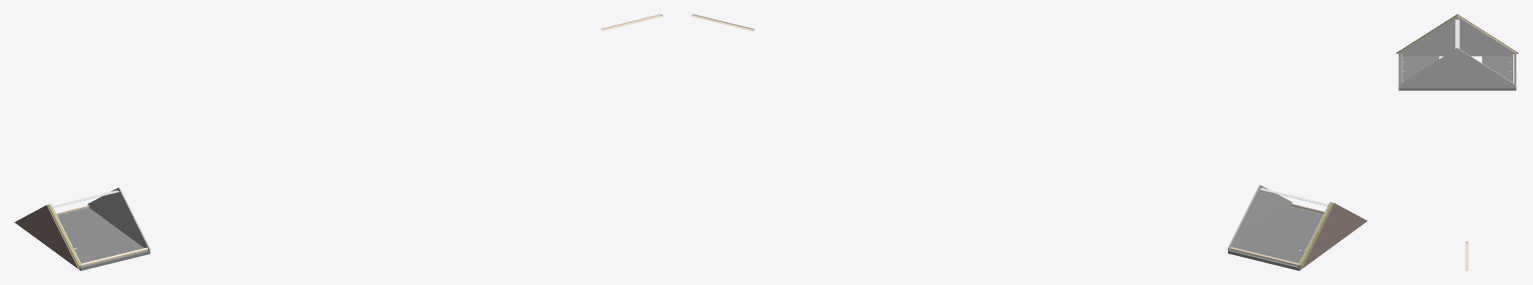
The model's file is 02_standard.gltf.
3 renders of one model, left to right at view 1: azimuth 30°, elevation 25°; view 2: azimuth 150°, elevation 25°; view 3: azimuth 270°, elevation 25°, orthographic. The views are drawn at different scales.
Parts seen in each view (by area): view 1: [3334535]23_kanaalplaatvloer_200, [3323601]22_kalkzandsteen_100, [3323695]21_metselwerk_oranje_100; view 2: [3334535]23_kanaalplaatvloer_200, [3323601]22_kalkzandsteen_100, [3323695]21_metselwerk_oranje_100; view 3: [3323601]22_kalkzandsteen_100, [3323585]22_kalkzandsteen_100, [3334535]23_kanaalplaatvloer_200, [3323695]21_metselwerk_oranje_100, [3323680]21_isolatie_mineraal_150, [3323654]45_Plafond_beplating_15mm, [3323652]00_Sparing_rechthoekig, [3323617]Langskap, [3323618]Langskap.
Part boxes in pixels (<box>): [3334535]23_kanaalplaatvloer_200: <box>57,207,150,270</box>; [3323601]22_kalkzandsteen_100: <box>87,187,150,251</box>; [3323695]21_metselwerk_oranje_100: <box>14,205,79,269</box>; [3334535]23_kanaalplaatvloer_200: <box>1228,206,1323,270</box>; [3323601]22_kalkzandsteen_100: <box>1228,185,1292,250</box>; [3323695]21_metselwerk_oranje_100: <box>1300,203,1367,269</box>; [3323601]22_kalkzandsteen_100: <box>1398,48,1516,88</box>; [3323585]22_kalkzandsteen_100: <box>1398,16,1516,56</box>; [3334535]23_kanaalplaatvloer_200: <box>1398,56,1516,90</box>; [3323695]21_metselwerk_oranje_100: <box>1396,14,1518,53</box>; [3323680]21_isolatie_mineraal_150: <box>1398,15,1516,52</box>; [3323654]45_Plafond_beplating_15mm: <box>1455,19,1459,48</box>; [3323652]00_Sparing_rechthoekig: <box>1465,241,1468,270</box>; [3323617]Langskap: <box>1400,54,1405,83</box>; [3323618]Langskap: <box>1509,54,1514,83</box>.
Bounding box in the file's own units: 48.97 × 6.05 × 8.78.
